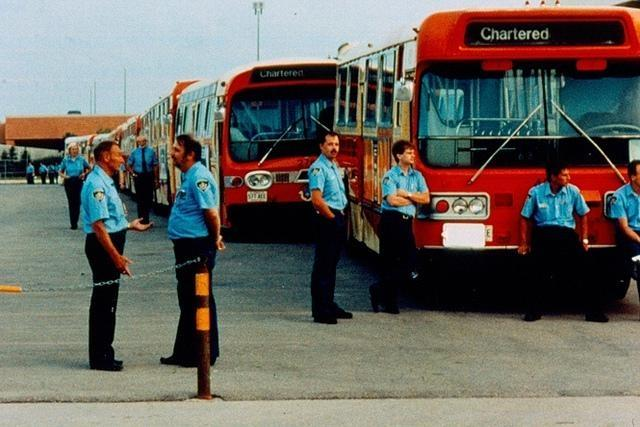bus: (329, 6, 640, 309), (174, 62, 338, 235), (139, 80, 202, 208), (115, 115, 136, 161), (64, 134, 95, 164), (90, 133, 113, 161)
